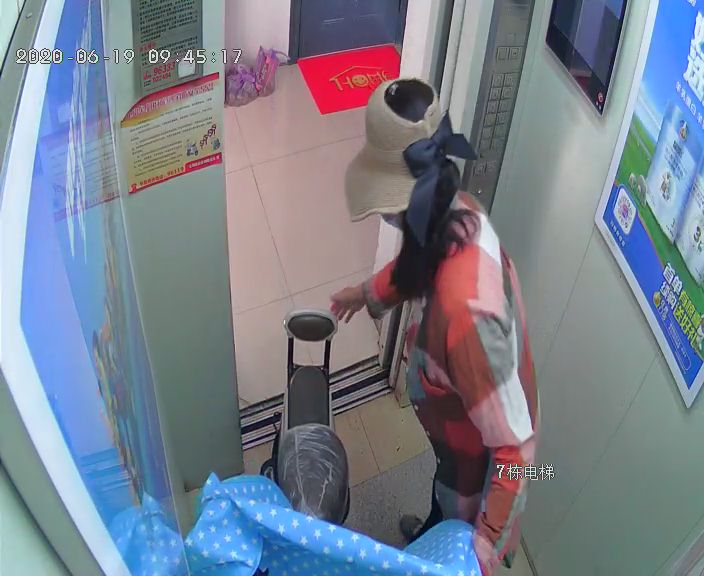Electric-bicycle: (202, 311, 451, 576)
